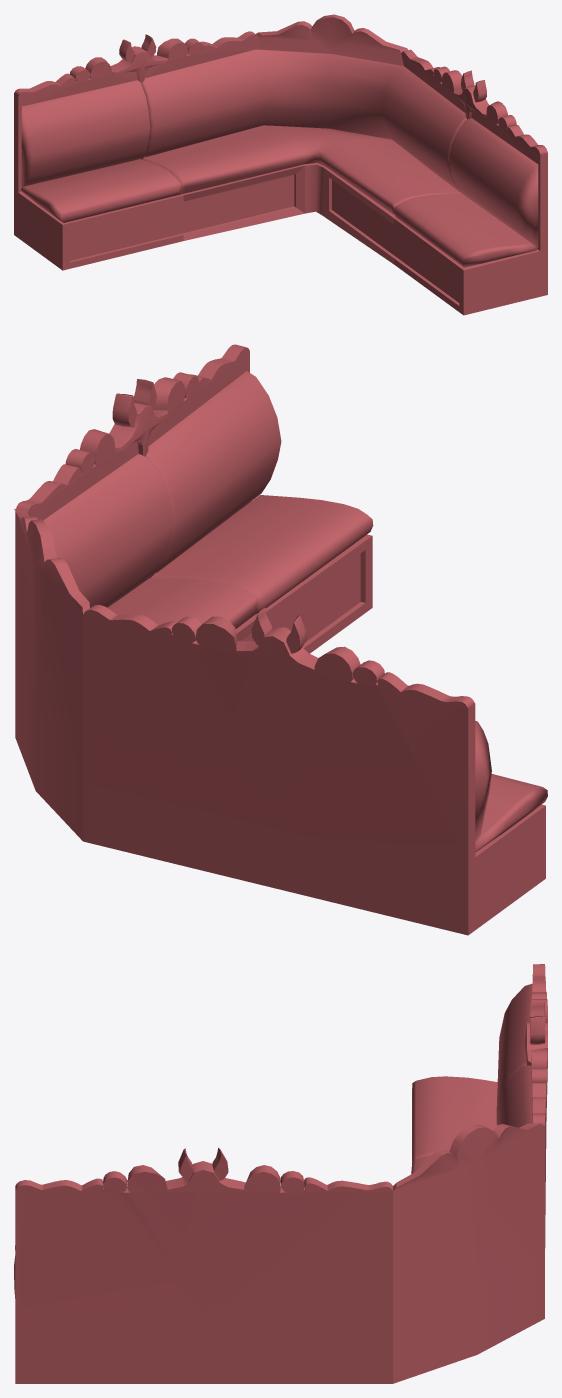
Rendered from banquette_coin.fbx.
3 renders of one model, top to bottom at view 1: azimuth 30°, elevation 25°; view 2: azimuth 150°, elevation 25°; view 3: azimuth 270°, elevation 25°, orthographic. The views are drawn at different scales.
Visible parts, largest first — view 1: banquette3; view 2: banquette3; view 3: banquette3.
Boxes of the visible parts, x1,y1,x2,y2 form: banquette3: (14,14,547,315); banquette3: (14,344,547,935); banquette3: (14,964,547,1383).
Bounding box in the file's own units: 85.41 × 40.35 × 84.77.
